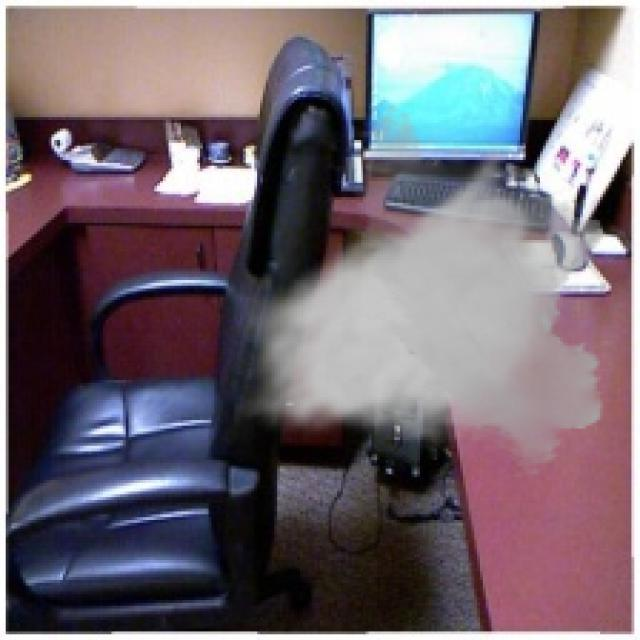Smoke: (235, 102, 614, 478)
